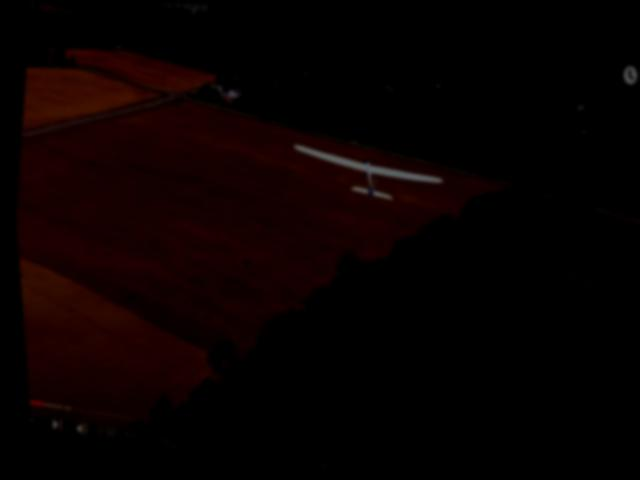plane: (286, 140, 443, 208)
